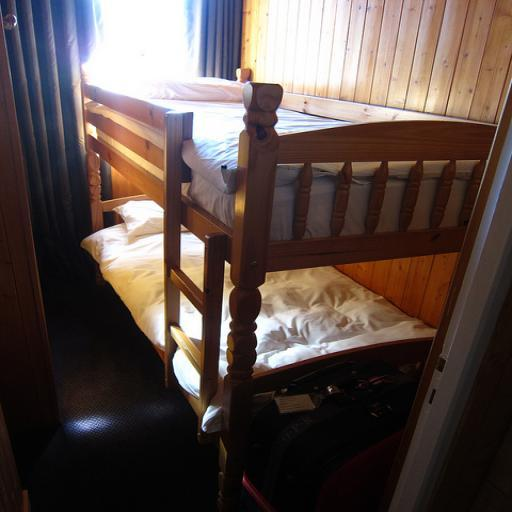bed: (71, 35, 490, 483)
